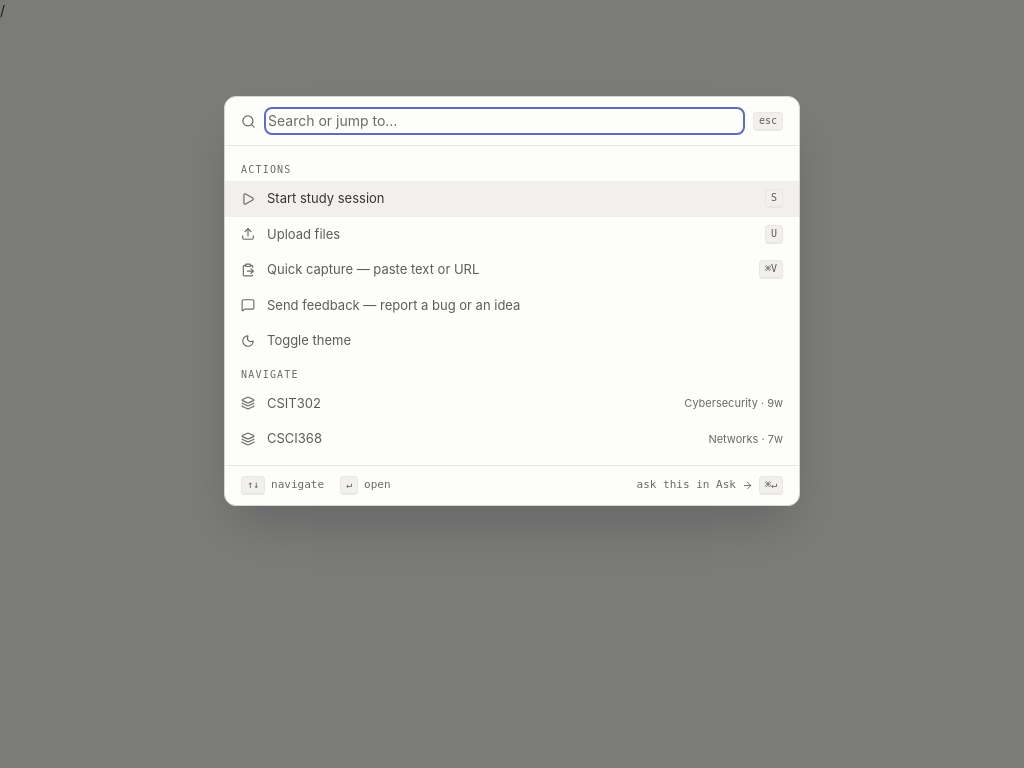
Test: CommandPalette global search › hides the content section and never queries when the flag is off
The width and height of the screenshot is (1024, 768).
Type "asl" into the dropdown labelled "Search or jump to…". click: (504, 121)
box: [268, 111, 741, 131]
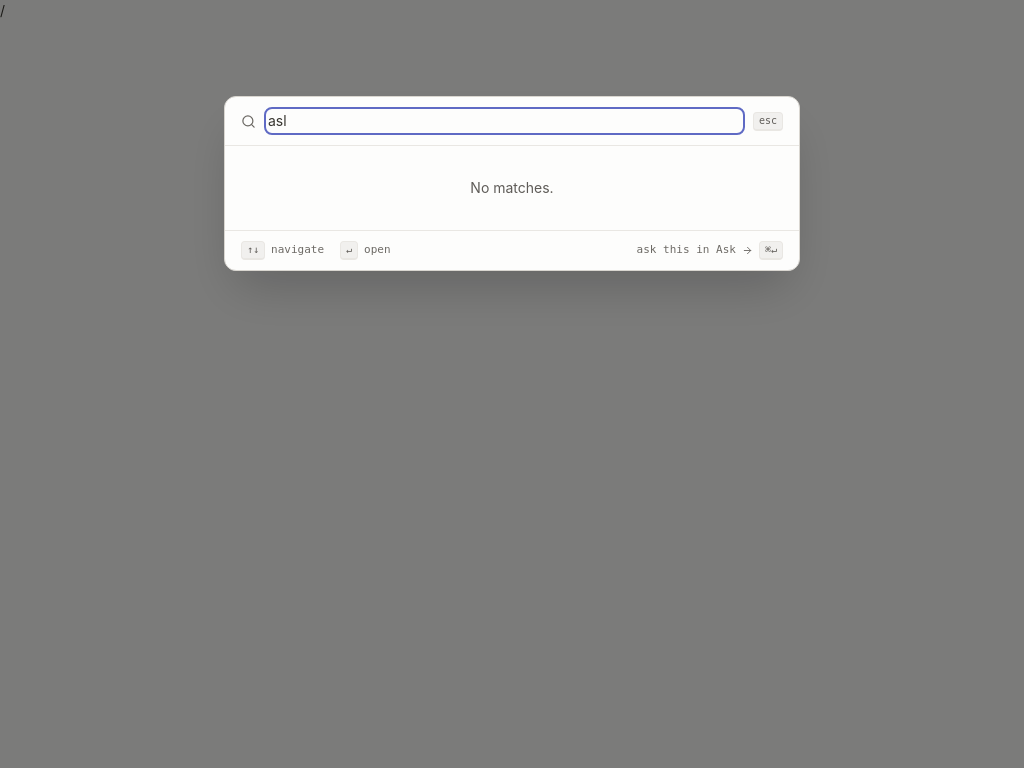
Check: the text "No matches." is shown, box [470, 179, 554, 196]
